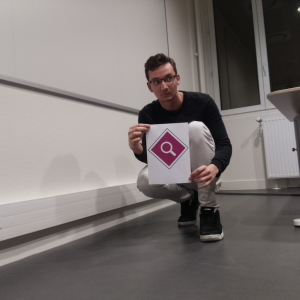search: (148, 128, 188, 168)
